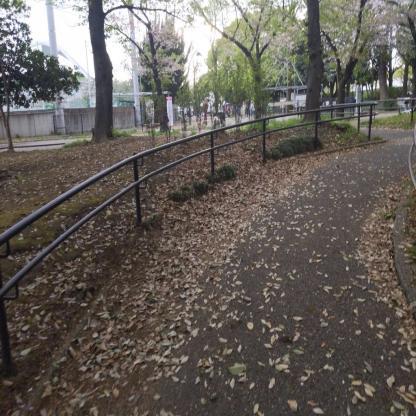Someiyoshino: (238, 0, 415, 60), (128, 16, 188, 80)
